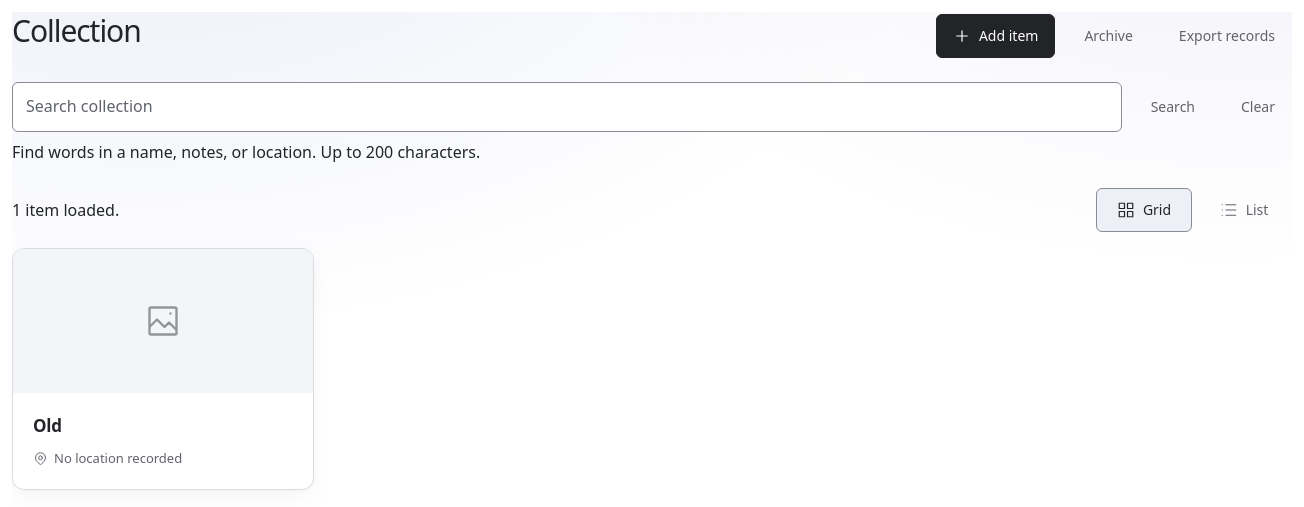
Scenario: distinguishes no matches and reports server validation without showing prior results
Expected: the link "Old No location recorded" is shown, [12, 248, 314, 490]
WHEN the server rejects a query THEN the prior results are removed.
Type "rejected" into the search field at (567, 107), box [12, 82, 1122, 132]
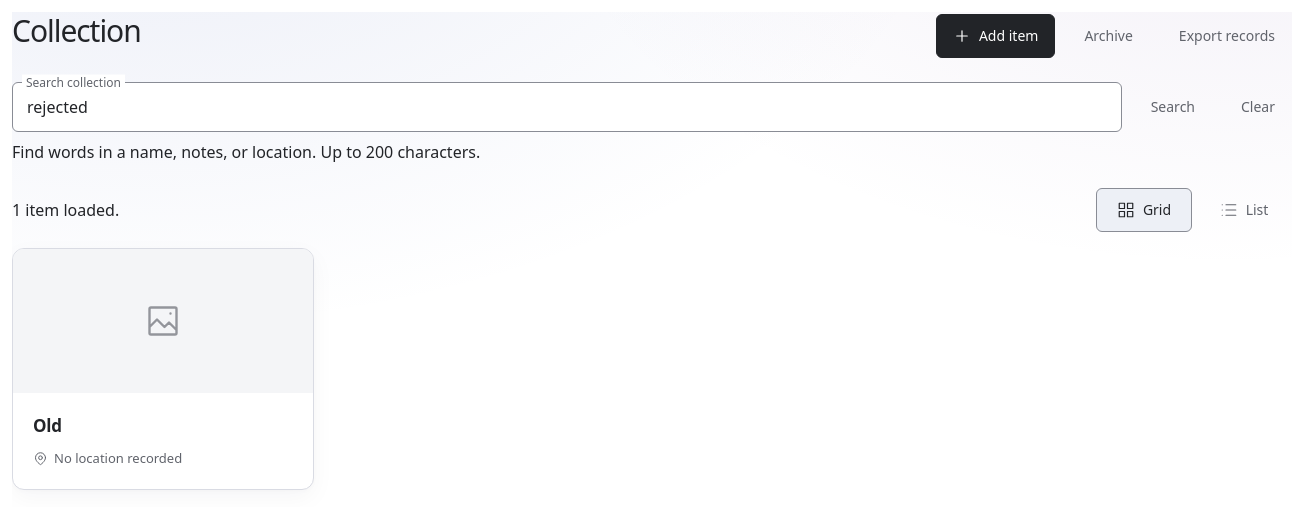
Click the button "Search" at (1173, 107), box [1134, 82, 1212, 132]
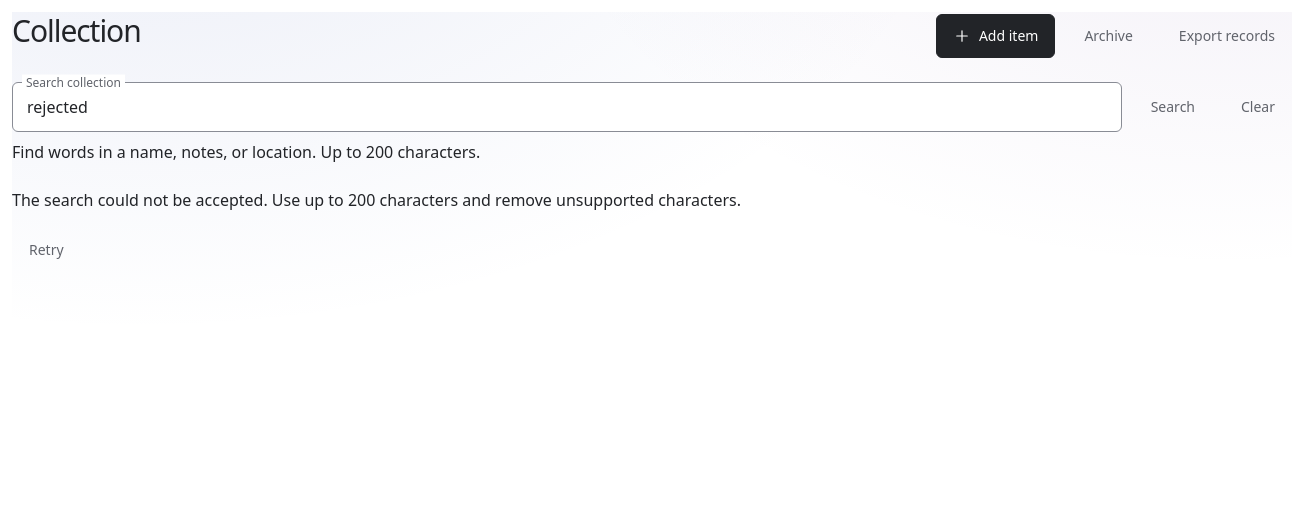
Now the message shows "200", box [12, 189, 741, 211]
Now the link "Old" is gone
WHEN a valid search has no results THEN distinguish it from an empty collection.
Replace the text in the search field with "absent" at (567, 107), box [12, 82, 1122, 132]
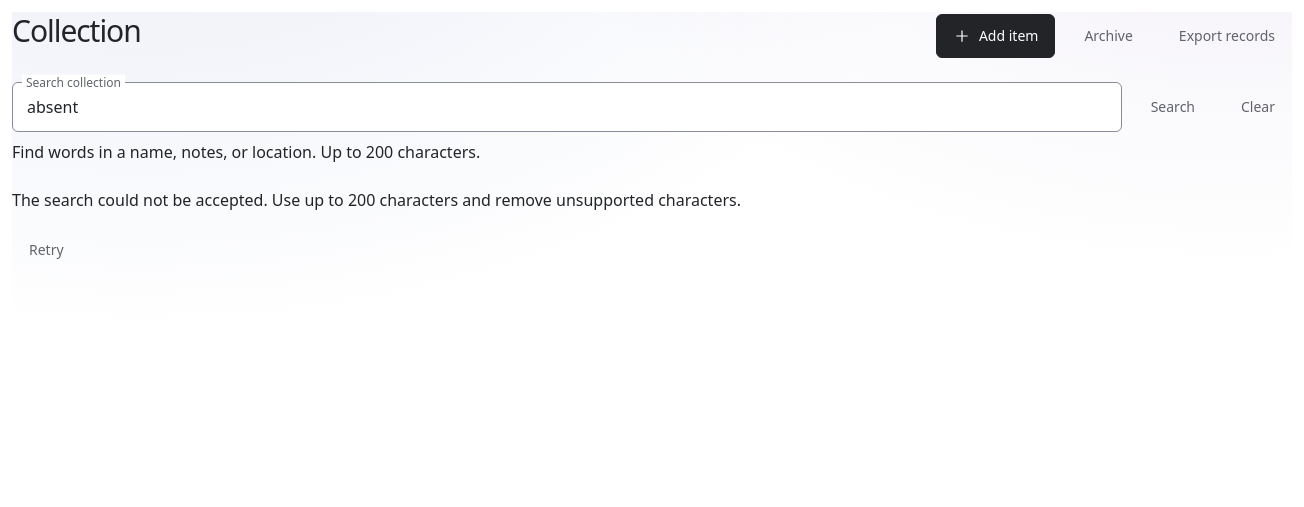
Click the button "Search" at (1173, 107), box [1134, 82, 1212, 132]
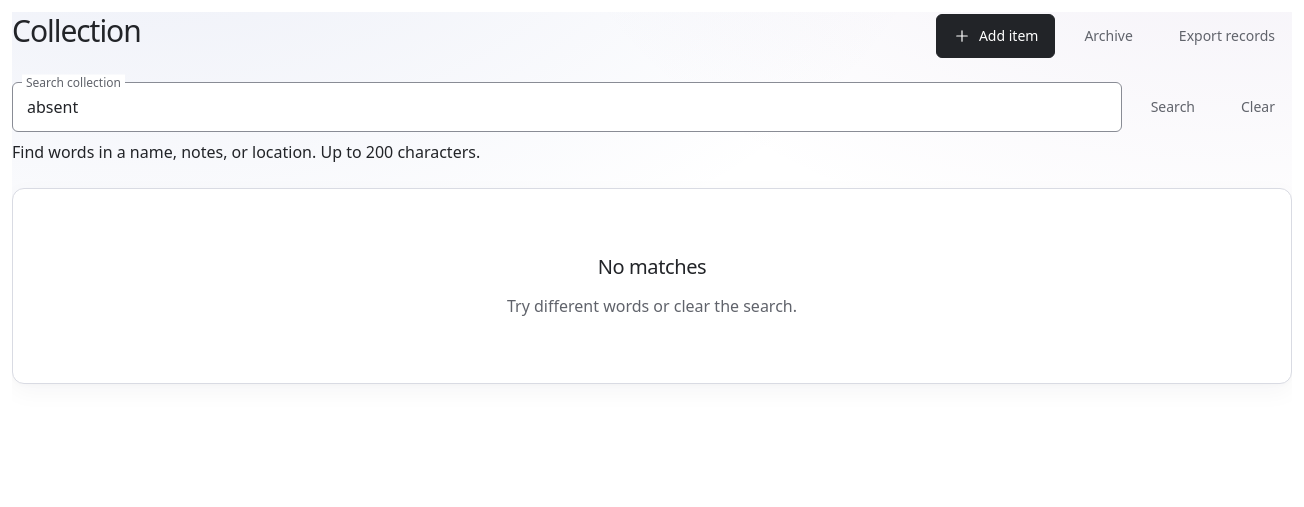
Now the message shows "No matches", box [598, 253, 706, 280]
